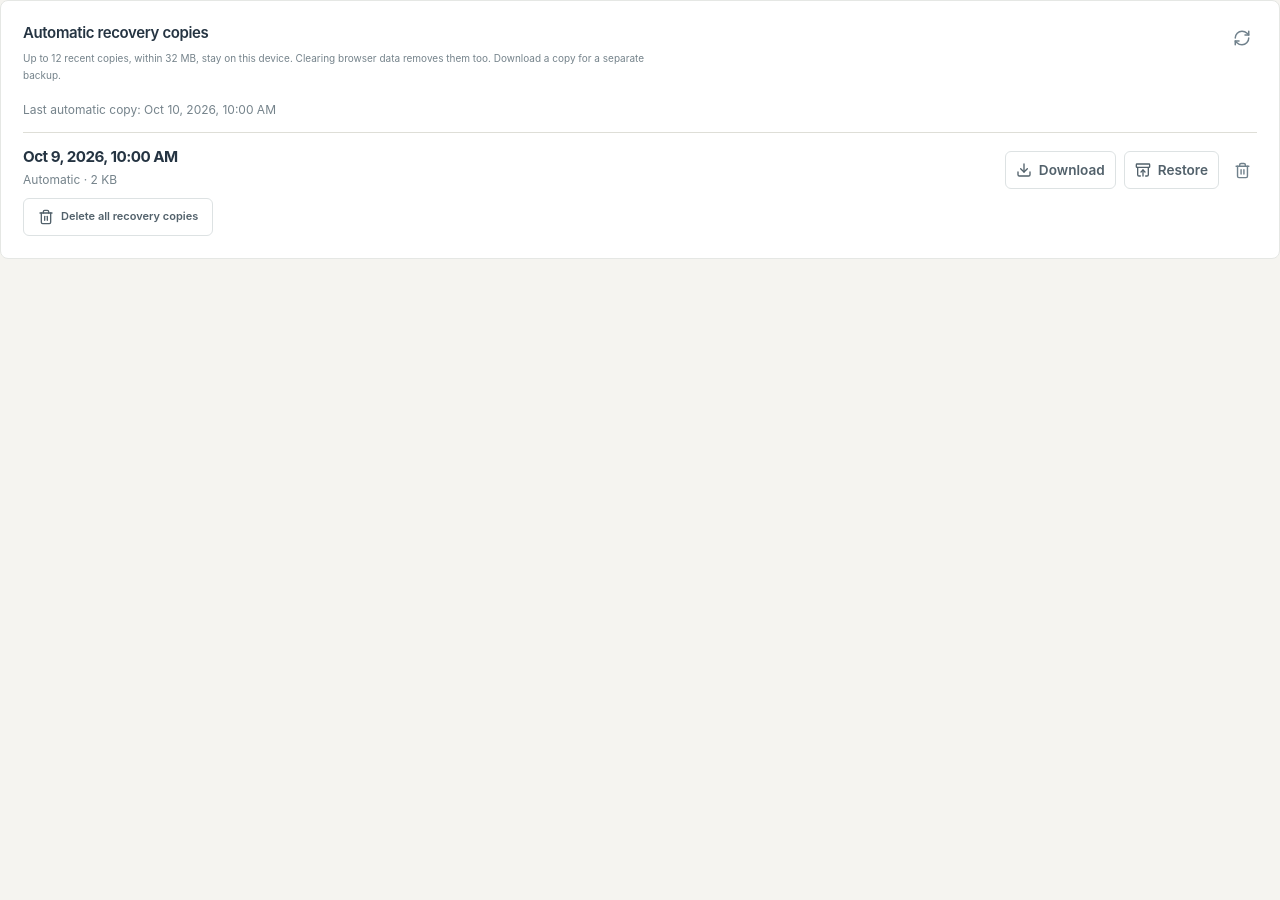
Test: recovery copy actions › preserves the current plan when the protective copy cannot be saved
The width and height of the screenshot is (1280, 900).
Click the button with aria-label "Restore recovery copy" at (1171, 170), box [1124,151,1219,189]
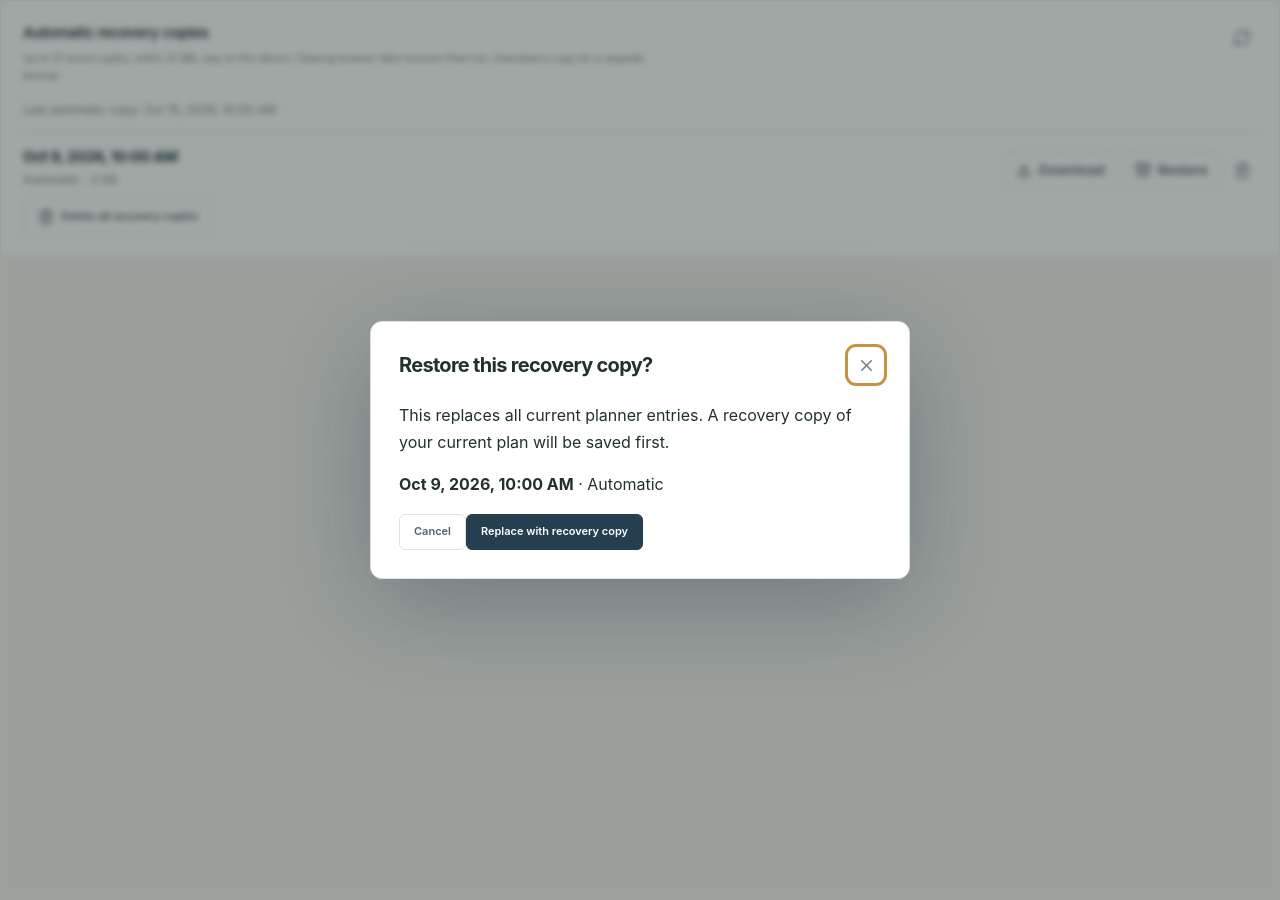
Click the button "Replace with recovery copy" at (555, 532), box [466,514,643,550]
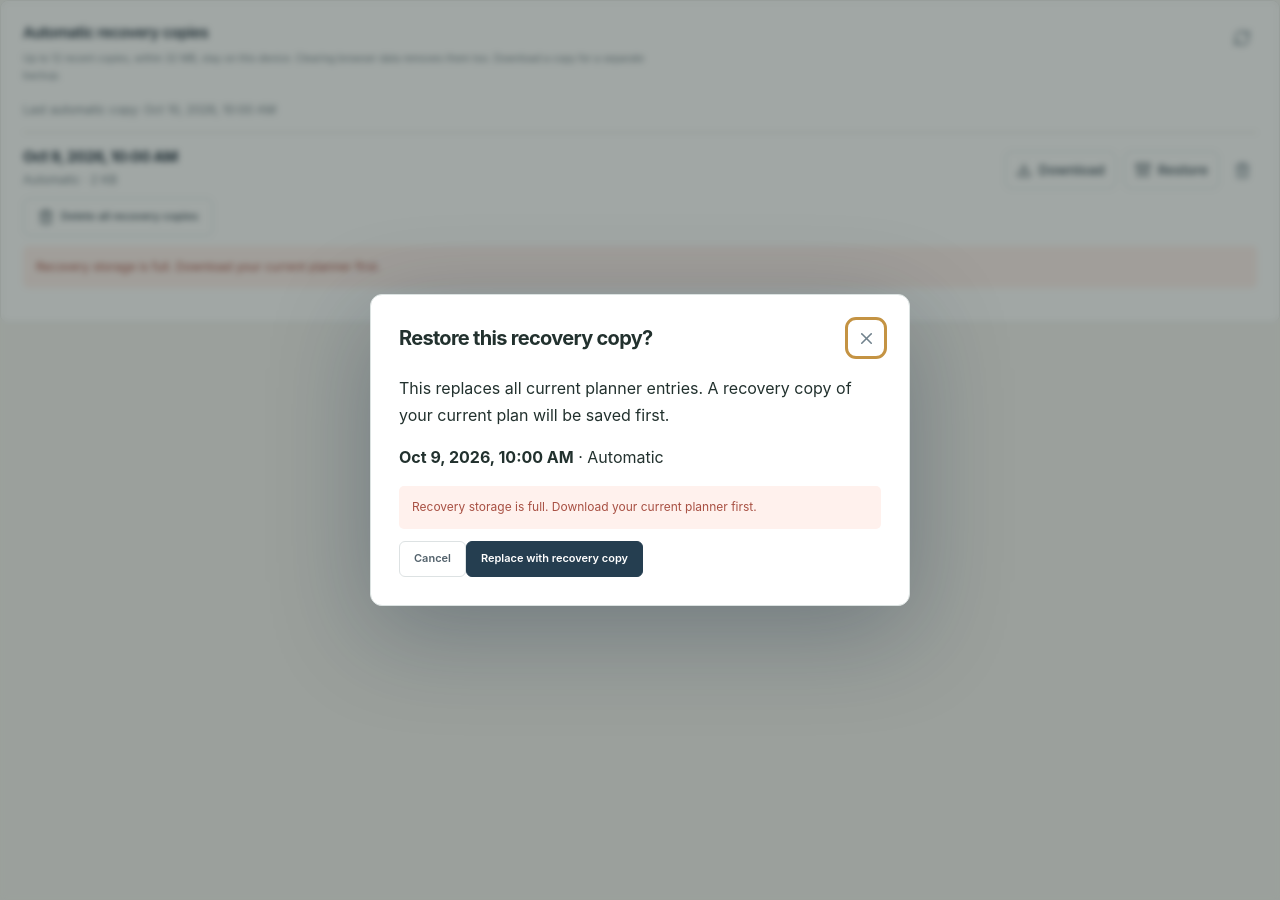
Expected: the message "Recovery storage is full. Download your current planner first." below "Restore this recovery copy?" is shown, [412,499,757,514]
